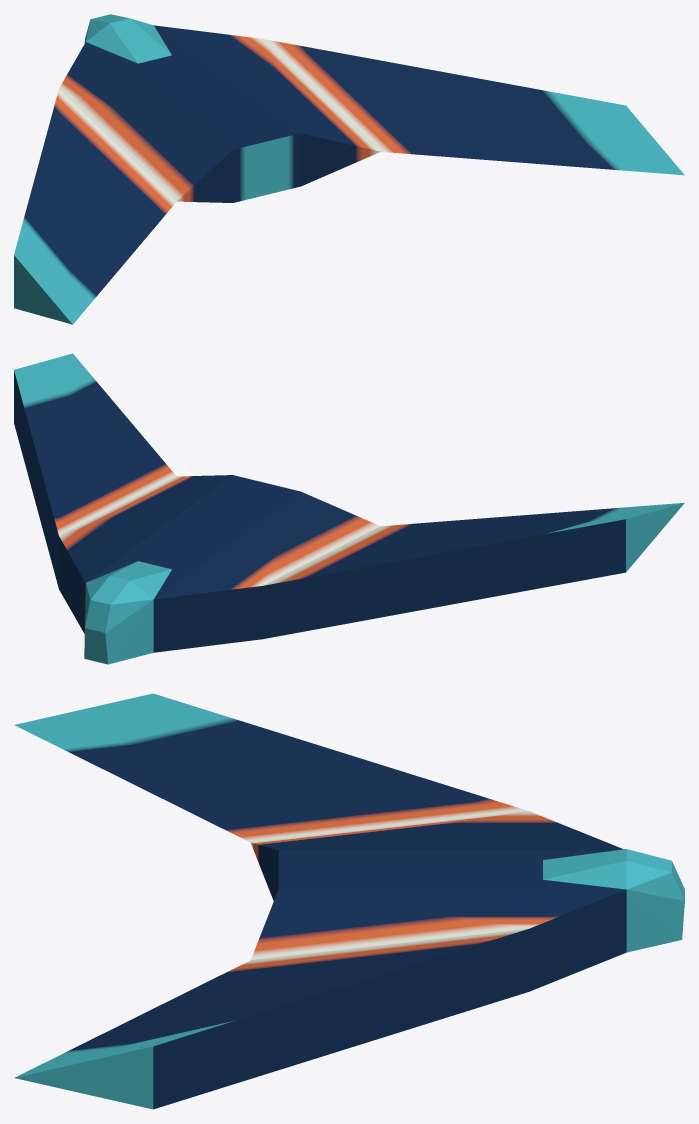
File: ship1.fbx
3 views of the same model, one above another, from view 1: azimuth 30°, elevation 25°; view 2: azimuth 150°, elevation 25°; view 3: azimuth 270°, elevation 25° (orthographic). The views are drawn at different scales.
Parts seen in each view (by area): view 1: Sphere; view 2: Sphere; view 3: Sphere.
Part boxes in pixels (x1,y1,x2,y2): Sphere: [14, 14, 684, 324]; Sphere: [14, 353, 684, 664]; Sphere: [14, 693, 684, 1109].
Size of the model in its own units: 600 by 62.01 by 482.
